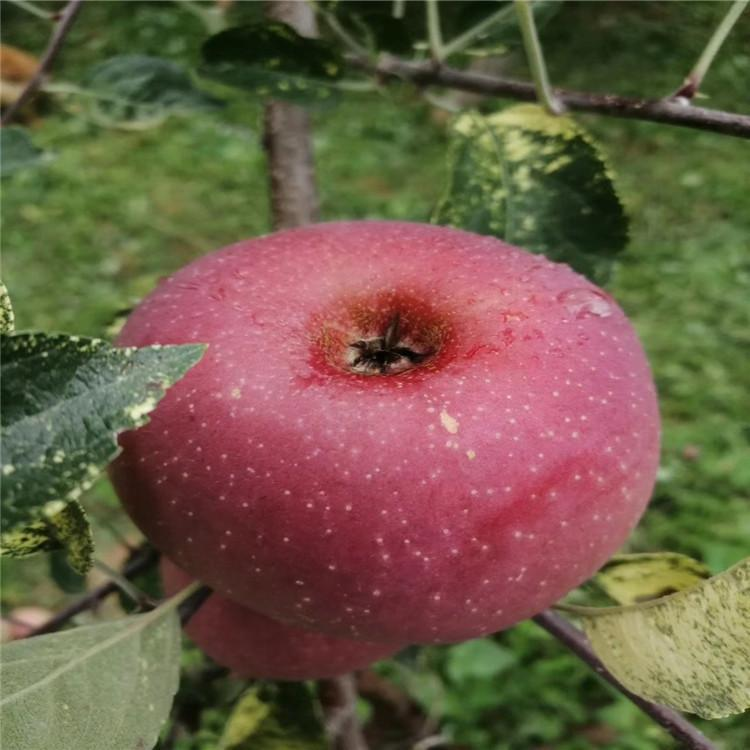apple: (98, 215, 665, 649)
